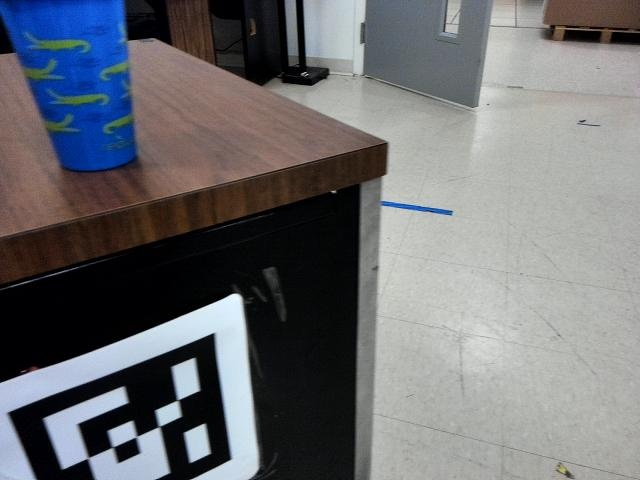water_cup: (1, 1, 163, 175)
